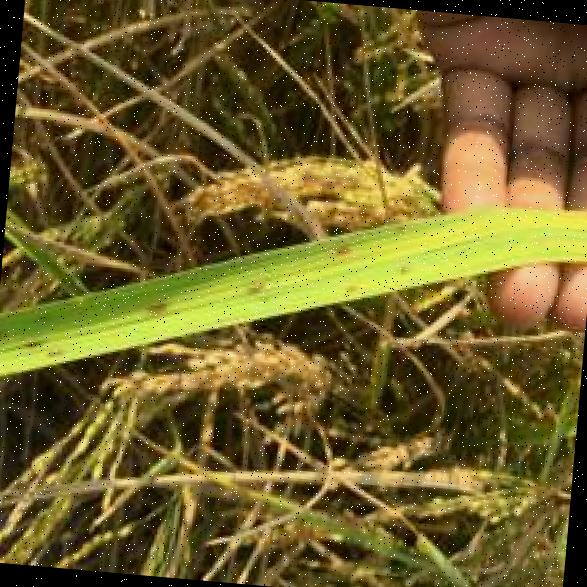Brown_Spot: (14, 329, 64, 358), (236, 268, 280, 295), (140, 290, 168, 311), (323, 238, 354, 254)
